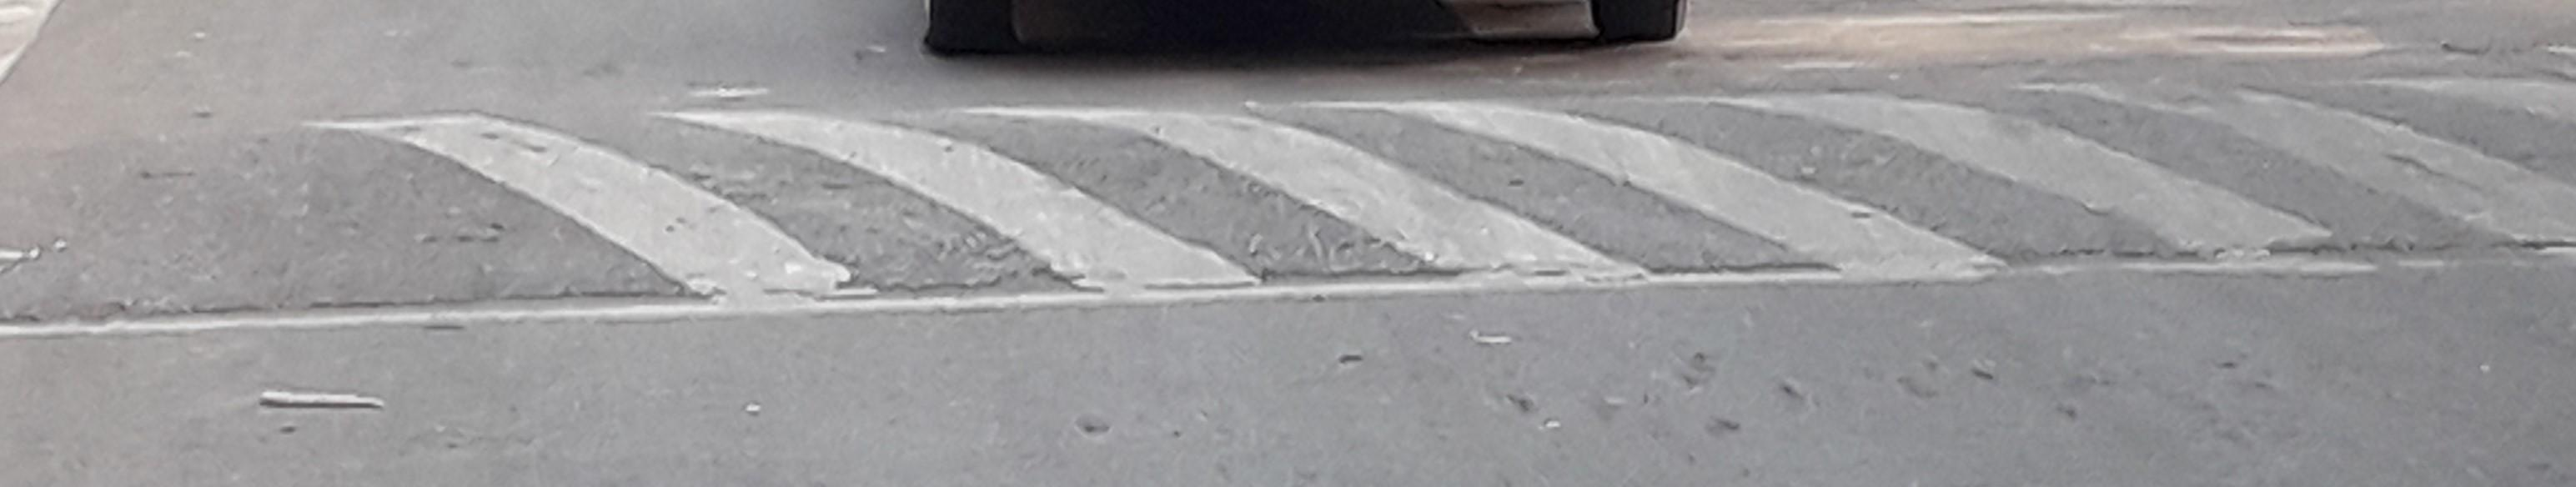speed-bump: (3, 41, 2570, 335)
